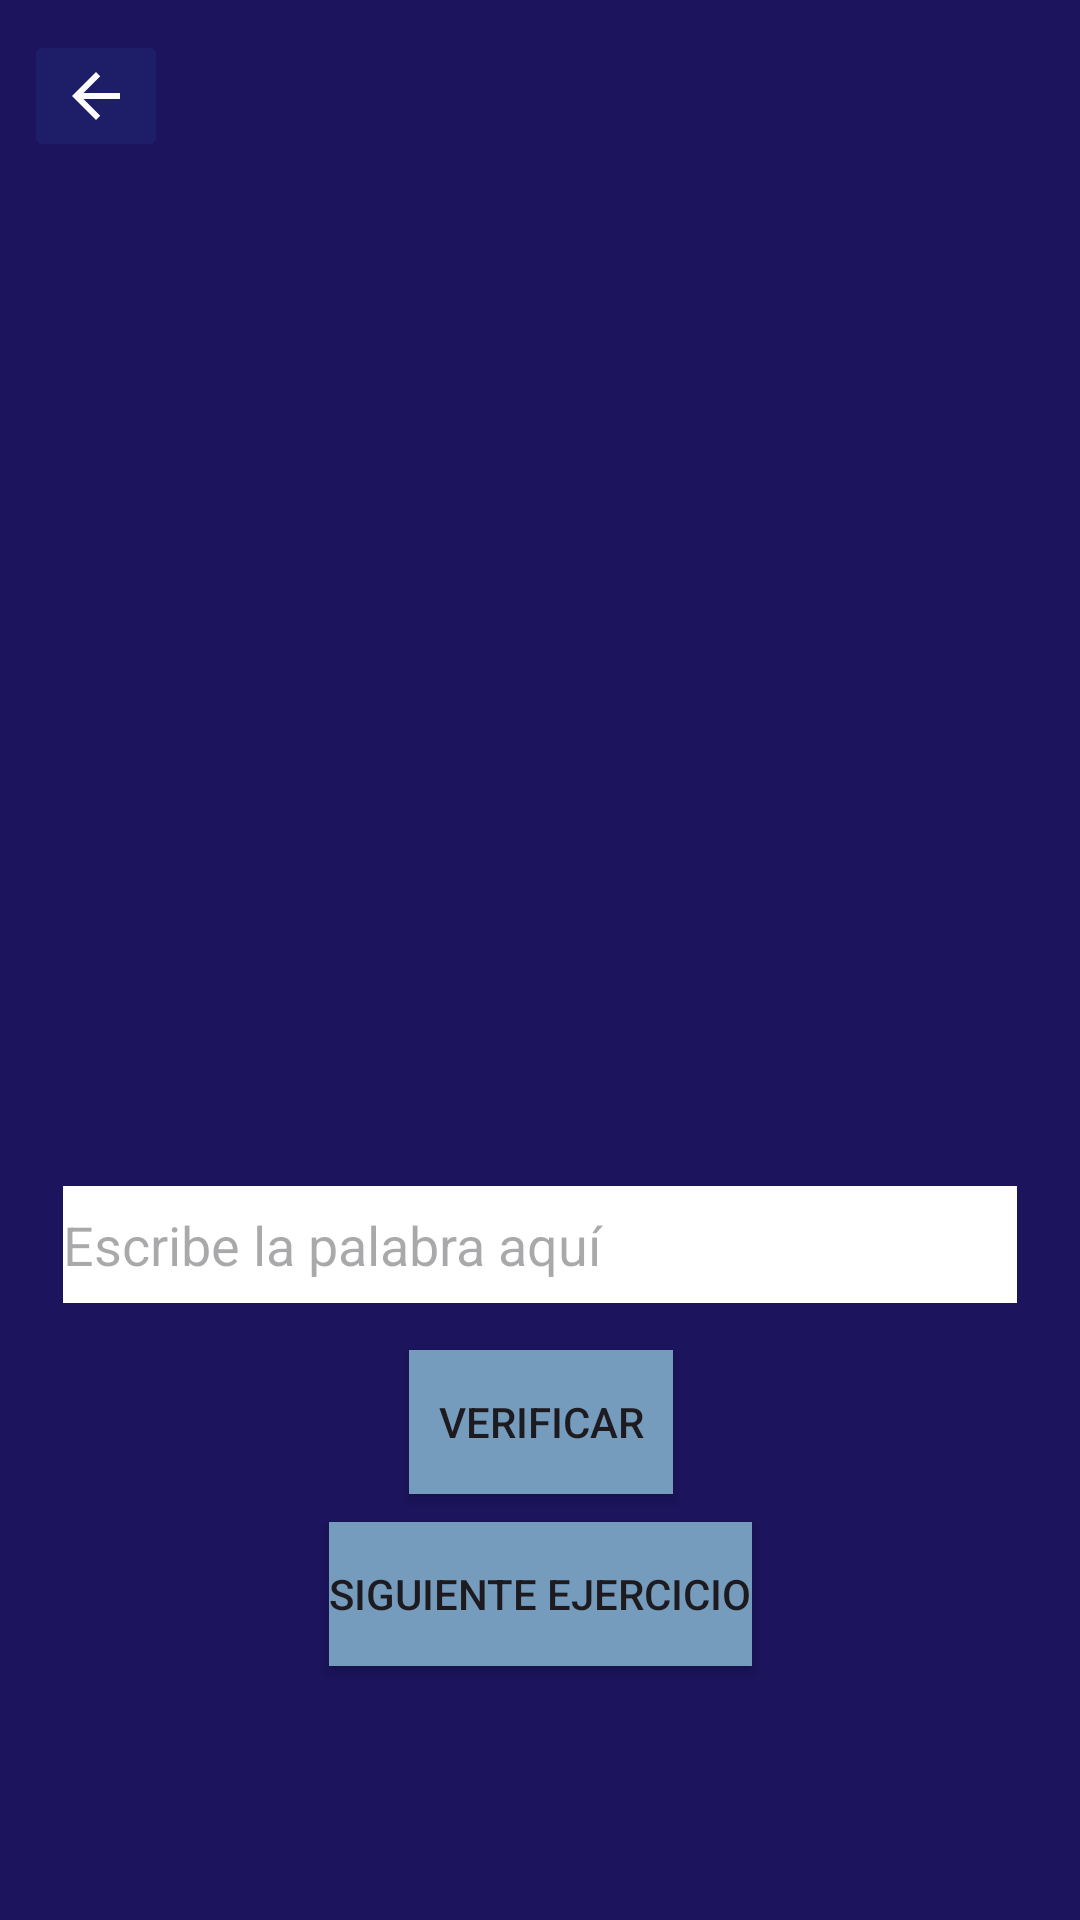

Icons on this 1080px×1920px Android screen, each with its box as (left=x1, top=y1, right=x2, bottom=y2):
arrow back: (left=36, top=48, right=156, bottom=144)
